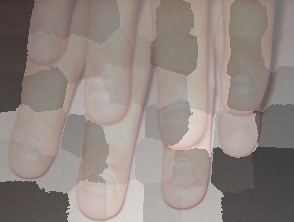Nail_psoriasis: (2, 126, 54, 179), (80, 65, 129, 115), (76, 163, 125, 209), (161, 153, 208, 198), (158, 94, 206, 136), (223, 113, 261, 148), (221, 71, 262, 101), (28, 26, 55, 52)
